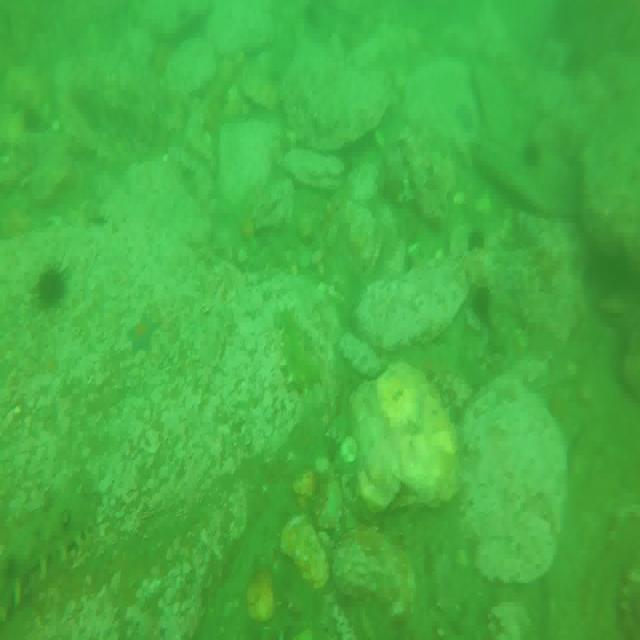echinus: (35, 268, 67, 310), (471, 281, 493, 322), (520, 141, 542, 168), (467, 228, 486, 253)
starfish: (127, 311, 161, 359)
